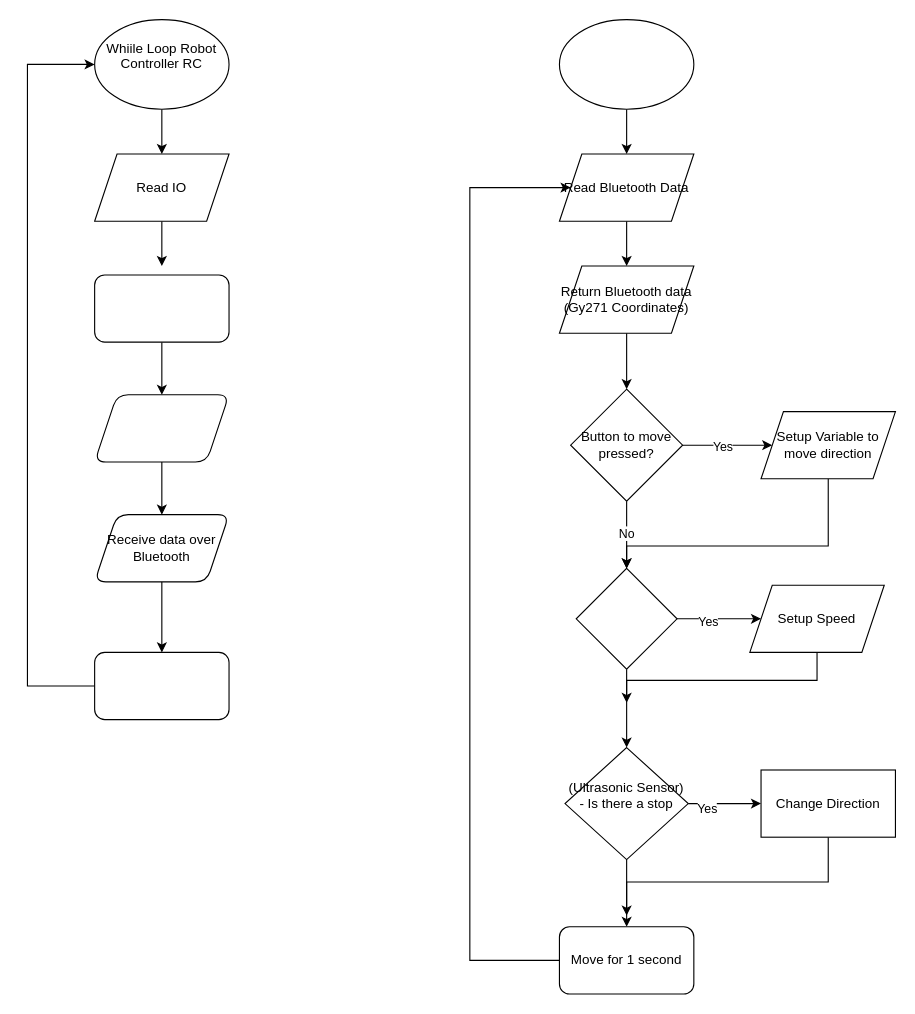
The diagram is 915 pixels wide and 1014 high, and some of its shapes have lost their labels. The shapes that lost their labels are listed below. From the top down, each one's centre as x and y in pixels, then its label:
At point (626, 63): "Whiile Loop Robot Controller".
At point (161, 308): "Prepare a string".
At point (161, 428): "Send data over Bluetooth".
At point (626, 618): "Speed is changed?".
At point (161, 685): "Update screen".
